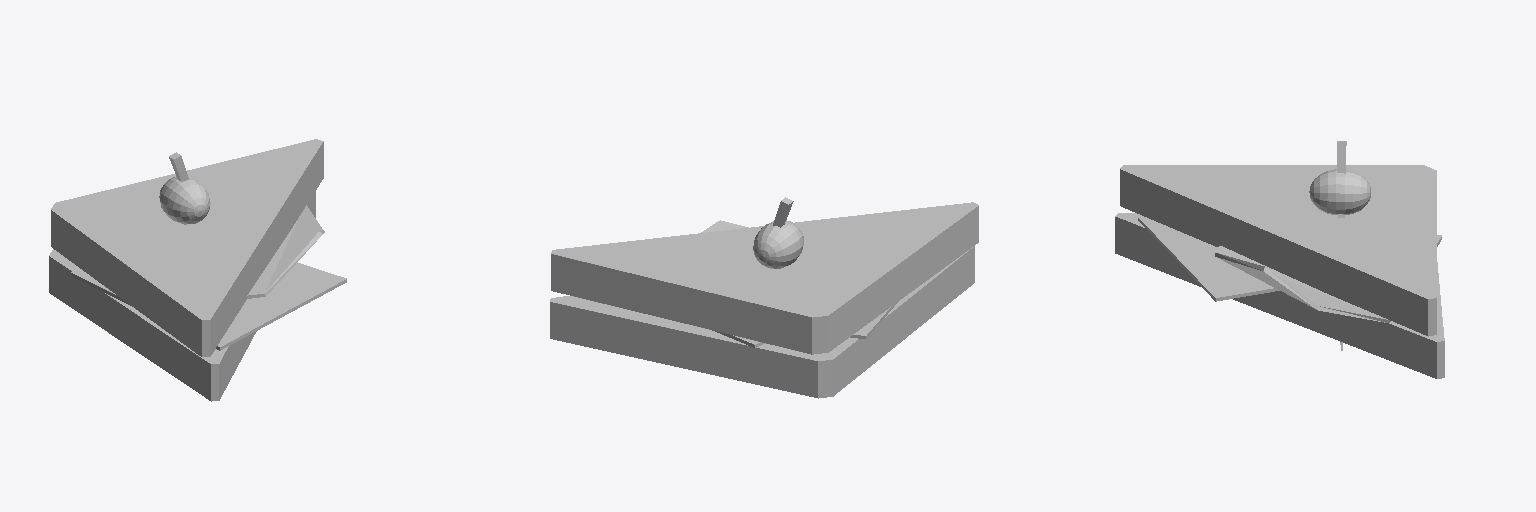
Rendered from SpaceSandwich 1.obj.
3 renders of one model, left to right at view 1: azimuth 30°, elevation 25°; view 2: azimuth 150°, elevation 25°; view 3: azimuth 270°, elevation 25°, orthographic.
Visible parts, largest first — view 1: SpaceSandwich_Cube.046; view 2: SpaceSandwich_Cube.046; view 3: SpaceSandwich_Cube.046.
Boxes of the visible parts, x1,y1,x2,y2 form: SpaceSandwich_Cube.046: [49, 139, 346, 401]; SpaceSandwich_Cube.046: [550, 197, 978, 398]; SpaceSandwich_Cube.046: [1115, 141, 1444, 378].
Bounding box in the file's own units: 0.8379 × 0.5126 × 0.8433.